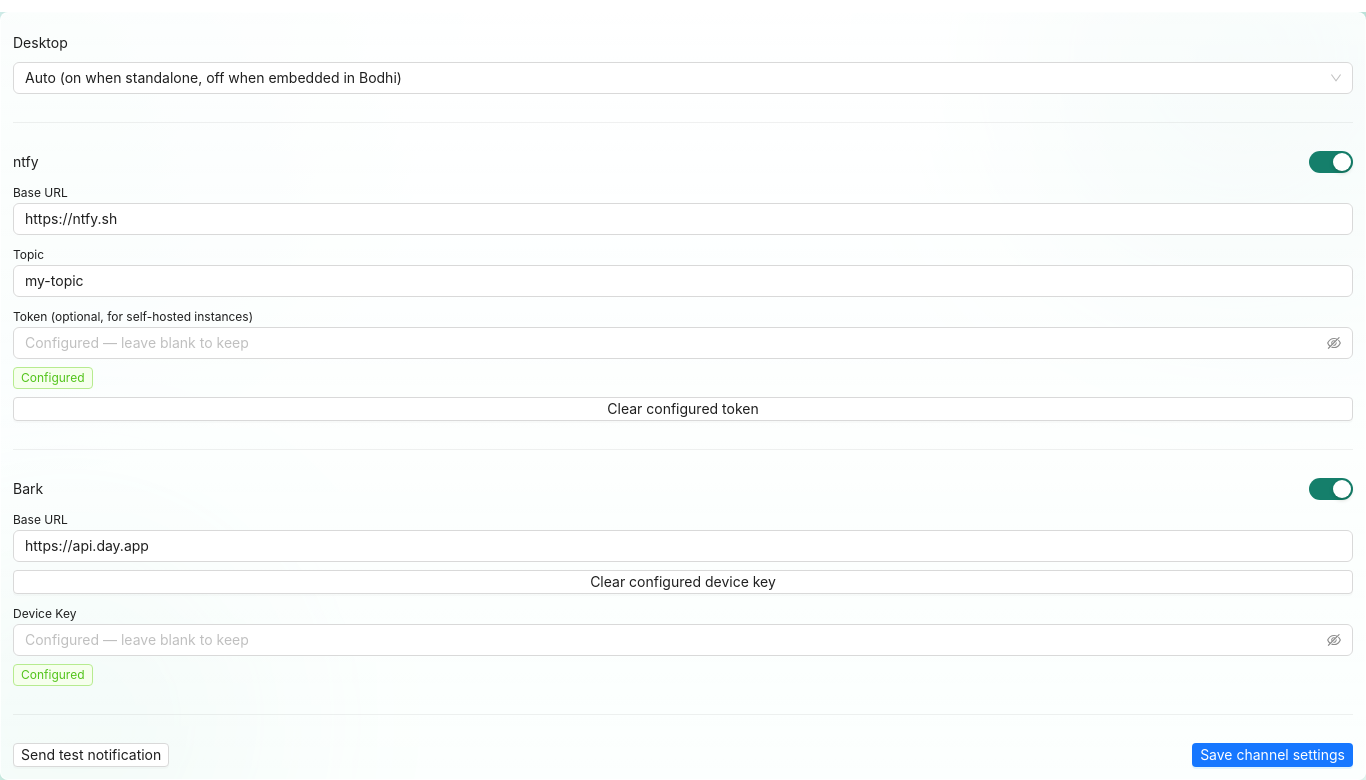
NotificationChannelsSection › shows attempted channels on a successful test
The image size is (1366, 780).
(page scrolled)
Expected: the password field with test id "channel-ntfy-token" is shown, [25,332,1323,354]
Click the button with test id "channel-test-button": click(91, 755) [13,743,169,767]
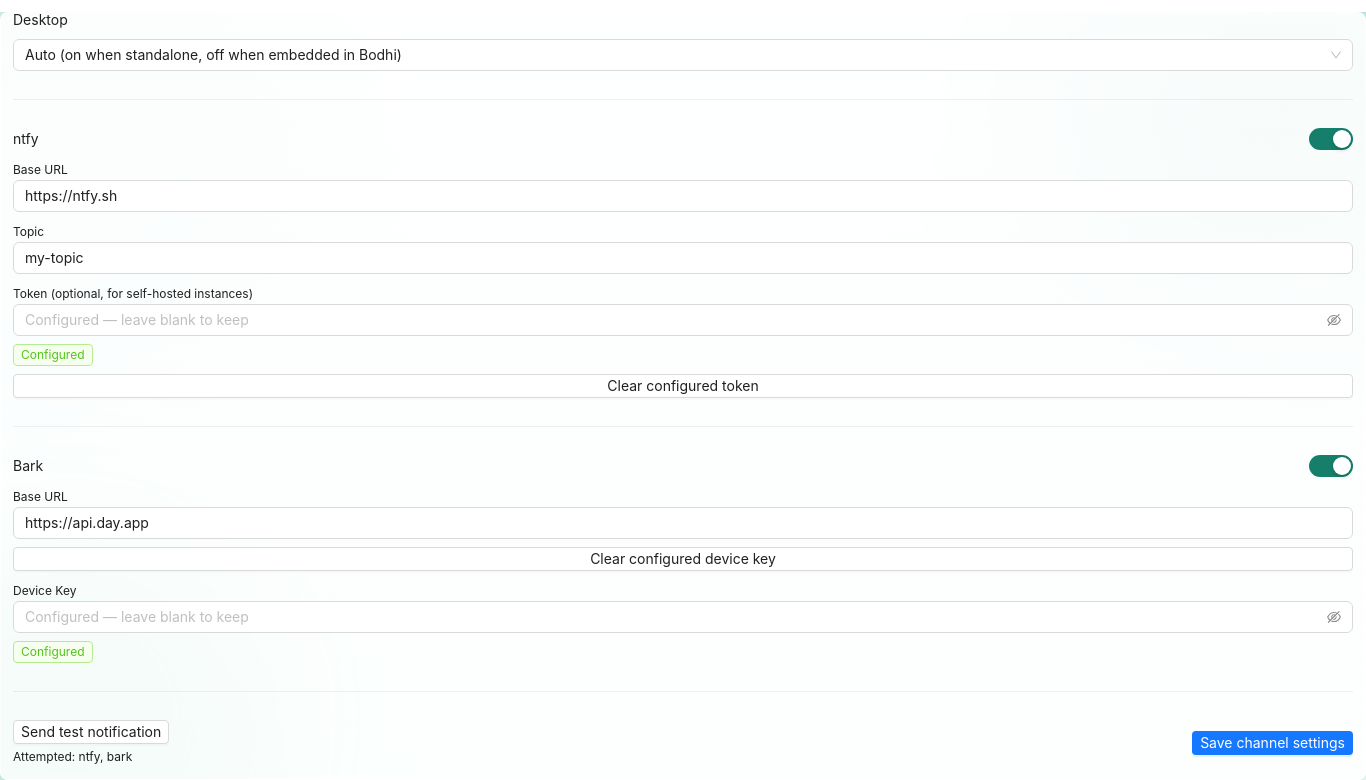
Expected: the text "Attempted: ntfy, bark" is shown, [13,749,132,764]
